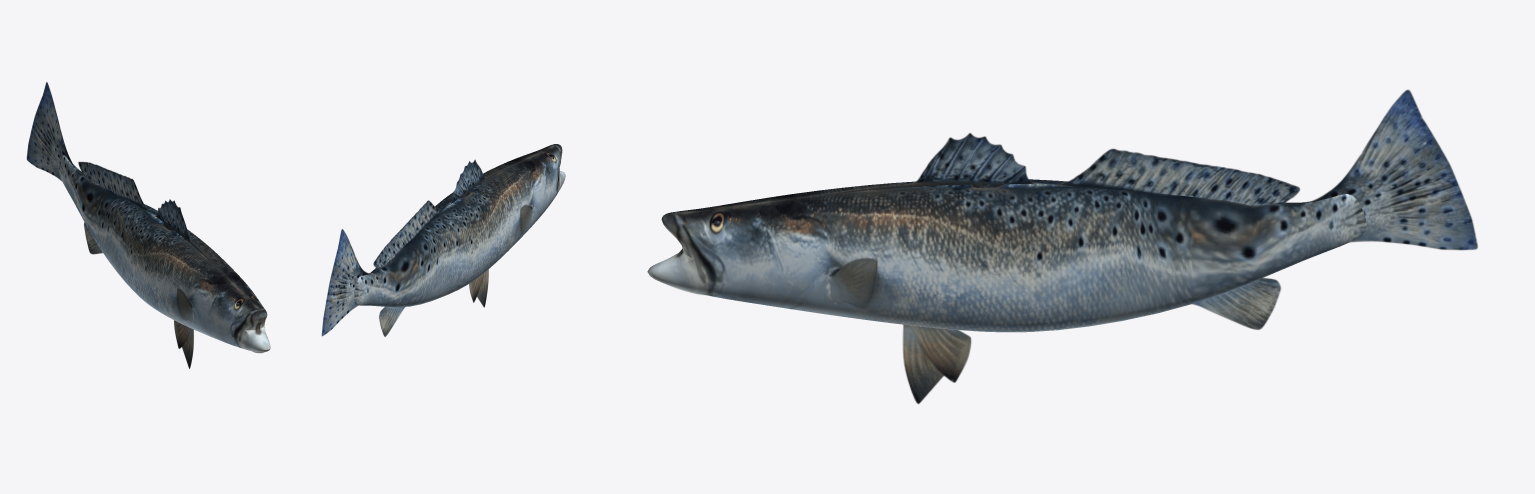
File: SilverFish.glb
The picture shows the model from 3 angles, left to right: view 1: azimuth 30°, elevation 25°; view 2: azimuth 150°, elevation 25°; view 3: azimuth 270°, elevation 25°; orthographic projection. The views are drawn at different scales.
Visible parts, largest first — view 1: Cube, Plane; view 2: Cube, Plane; view 3: Cube, Plane.
Boxes of the visible parts, bbox=[...] form: Cube: bbox=[59, 155, 270, 352]; Plane: bbox=[26, 82, 264, 368]; Cube: bbox=[354, 144, 565, 307]; Plane: bbox=[321, 159, 514, 336]; Cube: bbox=[647, 179, 1366, 332]; Plane: bbox=[668, 89, 1477, 404].
Bounding box in the file's own units: 0.5368 × 2.81 × 5.01.
1 material, 1 textured.
